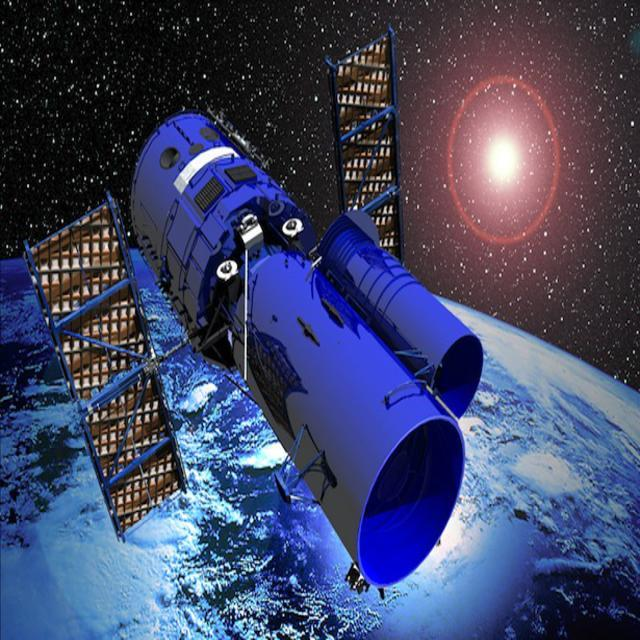sat: (28, 19, 488, 603)
